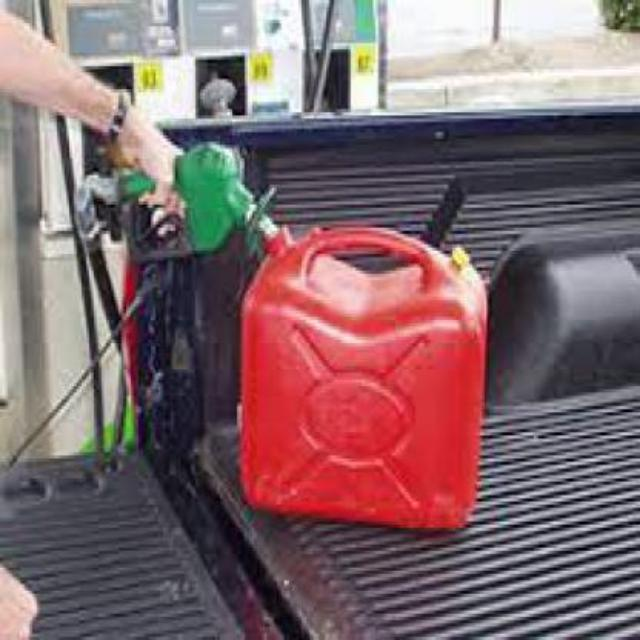chemical_plastic_gallon: (232, 218, 480, 534)
